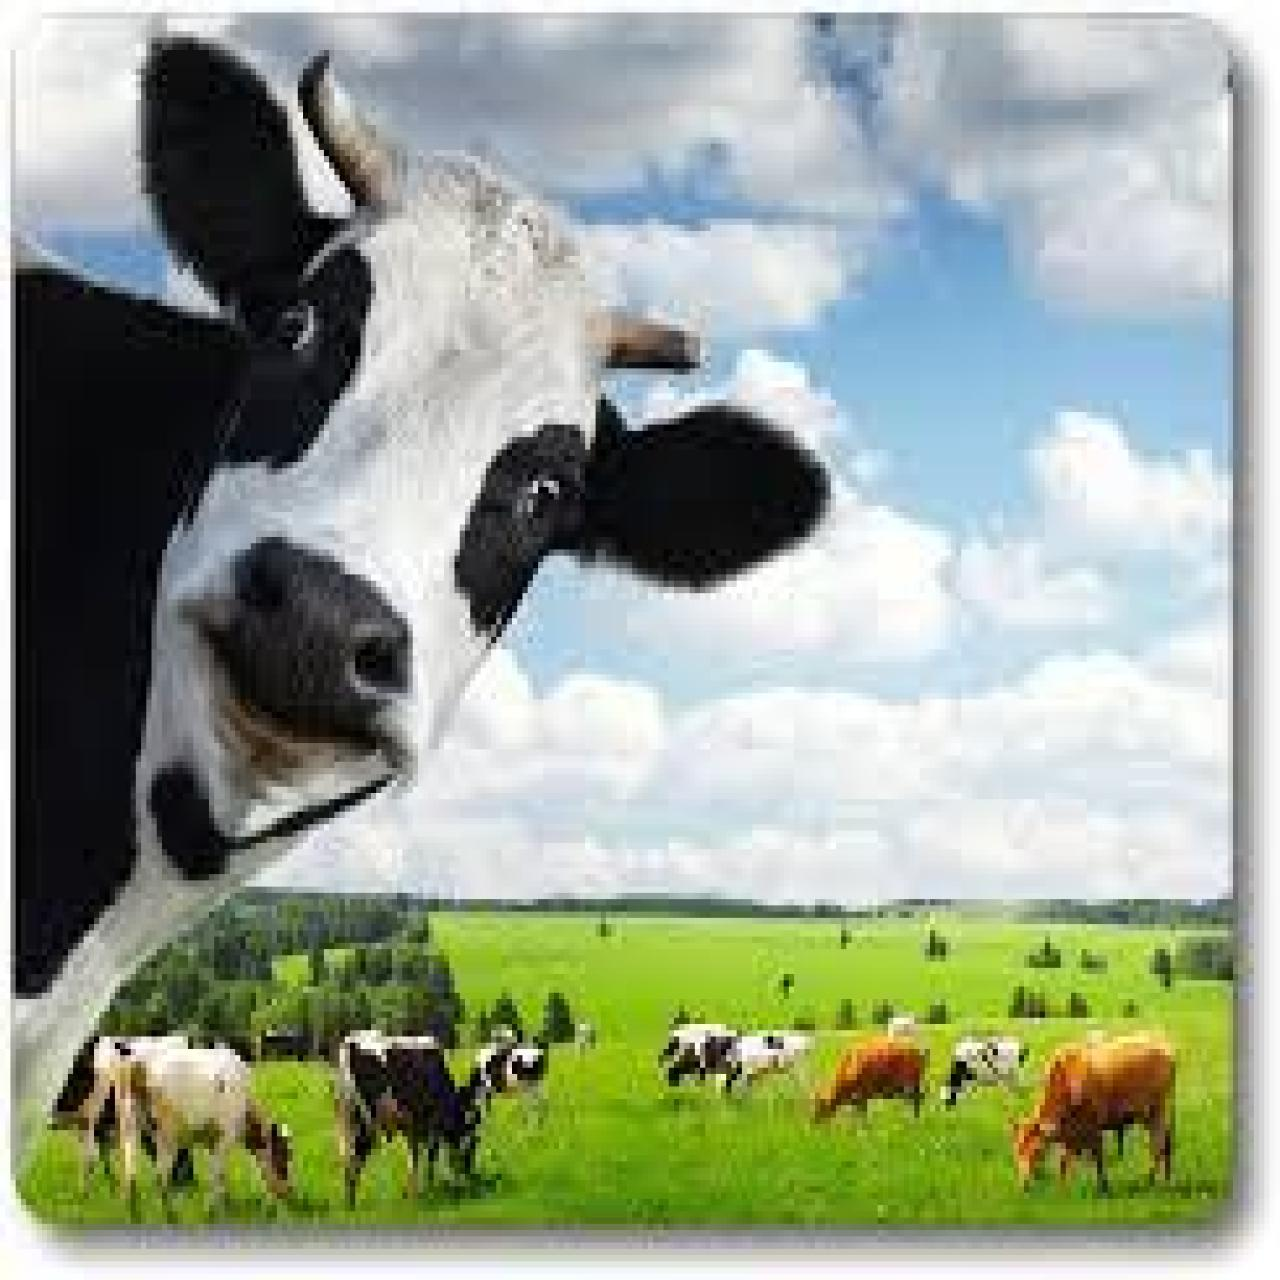cow: (0, 32, 836, 1193), (113, 1036, 295, 1224), (36, 1033, 236, 1201), (1008, 1027, 1180, 1201), (332, 1030, 483, 1212), (810, 1040, 930, 1139), (710, 1024, 816, 1105), (938, 1034, 1032, 1115), (661, 1017, 744, 1099), (468, 1040, 551, 1121)
